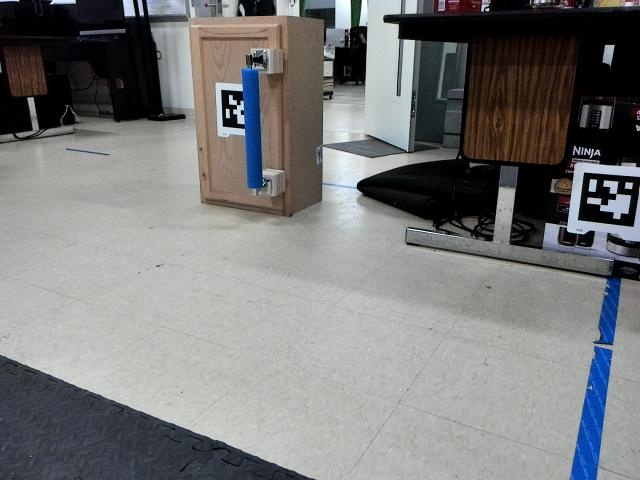noodle_handle: (238, 62, 267, 193)
